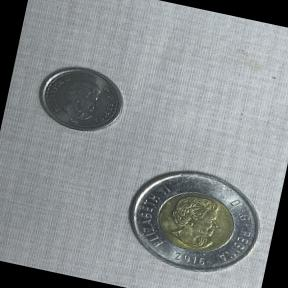coin: (112, 150, 277, 288), (27, 52, 133, 144)
